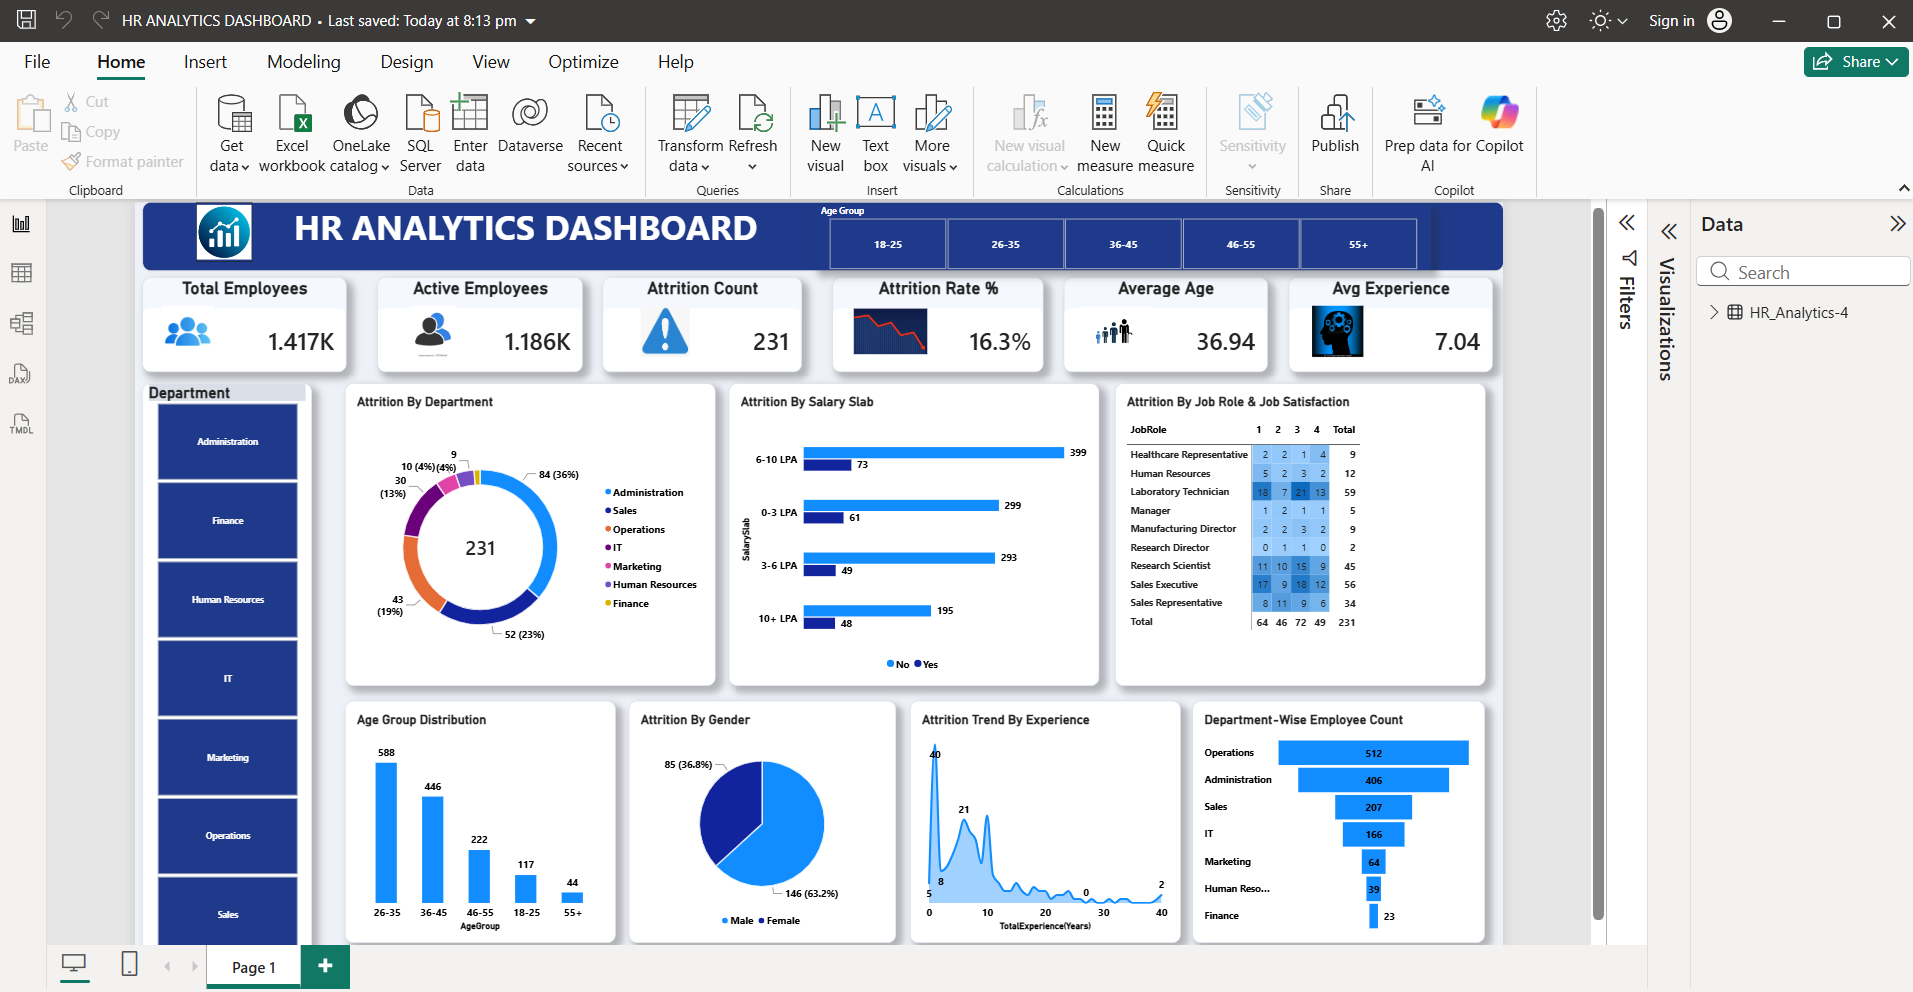

What the dashboard file says about the page in this screenshot:
{"tool":"powerbi","page":{"name":"Page 1","canvas":[1920,1080],"ordinal":0},"visuals":[{"type":"textbox","box":[10.3,0,1910.1,96.7],"z":0},{"type":"image","box":[86.4,0,78.2,84.4],"z":1000},{"type":"cardVisual","title":"Total Employees","fields":{"Data":["CountNonNull(HR_Analytics-4.EmpID)"]},"box":[10.3,105,286.1,133.8],"z":2000},{"type":"cardVisual","title":"Active Employees","fields":{"Data":["CountNonNull(HR_Analytics-4.EmployeeCount)"]},"box":[339.6,105,288.2,133.8],"z":3000},{"type":"cardVisual","title":"Attrition Count","fields":{"Data":["Sum(HR_Analytics-4.AttritionCount)"]},"box":[656.6,105,279.9,133.8],"z":4000},{"type":"cardVisual","title":"Attrition Rate %","fields":{"Data":["HR_Analytics-4.Attrition Rate %"]},"box":[979.8,105,296.4,133.8],"z":5000},{"type":"cardVisual","title":"Average Age","fields":{"Data":["Avg(HR_Analytics-4.Age)"]},"box":[1302.9,105,286.1,133.8],"z":6000},{"type":"cardVisual","title":"Avg Experience","fields":{"Data":["Avg(HR_Analytics-4.YearsatCompany)"]},"box":[1619.9,105,286.1,133.8],"z":7000},{"type":"image","box":[1323.5,146.1,102.9,72],"z":8000},{"type":"image","box":[693.7,146.1,102.9,72],"z":9000},{"type":"image","box":[1008.6,146.1,102.9,72],"z":10000},{"type":"image","box":[1636.4,146.1,102.9,72],"z":11000},{"type":"image","box":[366.4,146.1,102.9,72],"z":12000},{"type":"image","box":[22.6,146.1,102.9,72],"z":13000},{"type":"donutChart","title":"Attrition By Department","fields":{"Category":["HR_Analytics-4.Department"],"Y":["Sum(HR_Analytics-4.AttritionCount)"]},"box":[295,255,520,425],"z":14000},{"type":"clusteredBarChart","title":"Attrition By Salary Slab","fields":{"Category":["HR_Analytics-4.SalarySlab"],"Series":["HR_Analytics-4.Attrition"],"Y":["CountNonNull(HR_Analytics-4.EmpID)"]},"box":[832.5,255,520,425],"z":15000},{"type":"pivotTable","title":"Attrition By Job Role & Job Satisfaction","fields":{"Columns":["HR_Analytics-4.JobSatisfaction"],"Rows":["HR_Analytics-4.JobRole"],"Values":["Sum(HR_Analytics-4.AttritionCount)"]},"box":[1375,255,520,425],"z":16000},{"type":"columnChart","title":"Age Group Distribution","fields":{"Category":["HR_Analytics-4.AgeGroup"],"Y":["Sum(HR_Analytics-4.EmployeeCount)"]},"box":[295,700,380,340],"z":17000},{"type":"pieChart","title":"Attrition By Gender","fields":{"Category":["HR_Analytics-4.Gender"],"Y":["Sum(HR_Analytics-4.AttritionCount)"]},"box":[692.5,700,375,340],"z":18000},{"type":"areaChart","title":"Attrition Trend By Experience","fields":{"Category":["HR_Analytics-4.TotalExperience(Years)"],"Y2":["Sum(HR_Analytics-4.AttritionCount)"]},"box":[1087.5,700,380,340],"z":19000},{"type":"funnel","title":"Department-Wise Employee Count","fields":{"Category":["HR_Analytics-4.Department"],"Y":["CountNonNull(HR_Analytics-4.EmpID)"]},"box":[1485,700,410,340],"z":20000},{"type":"slicer","fields":{"Values":["HR_Analytics-4.Department"]},"box":[10,255,237.5,802.5],"z":21000},{"type":"slicer","fields":{"Values":["HR_Analytics-4.AgeGroup"]},"box":[954,4,864,92],"z":21001}]}

Visuals, with their boxes on the page's 1920x1080 design canvas (x1, y1, x2, y2). These are canvas units, not pixel positions in the 1913x992 screenshot, which may show the page scaled, cropped or inside an application window:
textbox: (10,0,1920,97)
image: (86,0,165,84)
"Total Employees" cardVisual: (10,105,296,239)
"Active Employees" cardVisual: (340,105,628,239)
"Attrition Count" cardVisual: (657,105,936,239)
"Attrition Rate %" cardVisual: (980,105,1276,239)
"Average Age" cardVisual: (1303,105,1589,239)
"Avg Experience" cardVisual: (1620,105,1906,239)
image: (1324,146,1426,218)
image: (694,146,797,218)
image: (1009,146,1112,218)
image: (1636,146,1739,218)
image: (366,146,469,218)
image: (23,146,126,218)
"Attrition By Department" donutChart: (295,255,815,680)
"Attrition By Salary Slab" clusteredBarChart: (832,255,1352,680)
"Attrition By Job Role & Job Satisfaction" pivotTable: (1375,255,1895,680)
"Age Group Distribution" columnChart: (295,700,675,1040)
"Attrition By Gender" pieChart: (692,700,1068,1040)
"Attrition Trend By Experience" areaChart: (1088,700,1468,1040)
"Department-Wise Employee Count" funnel: (1485,700,1895,1040)
slicer - HR_Analytics-4.Department: (10,255,248,1058)
slicer - HR_Analytics-4.AgeGroup: (954,4,1818,96)
